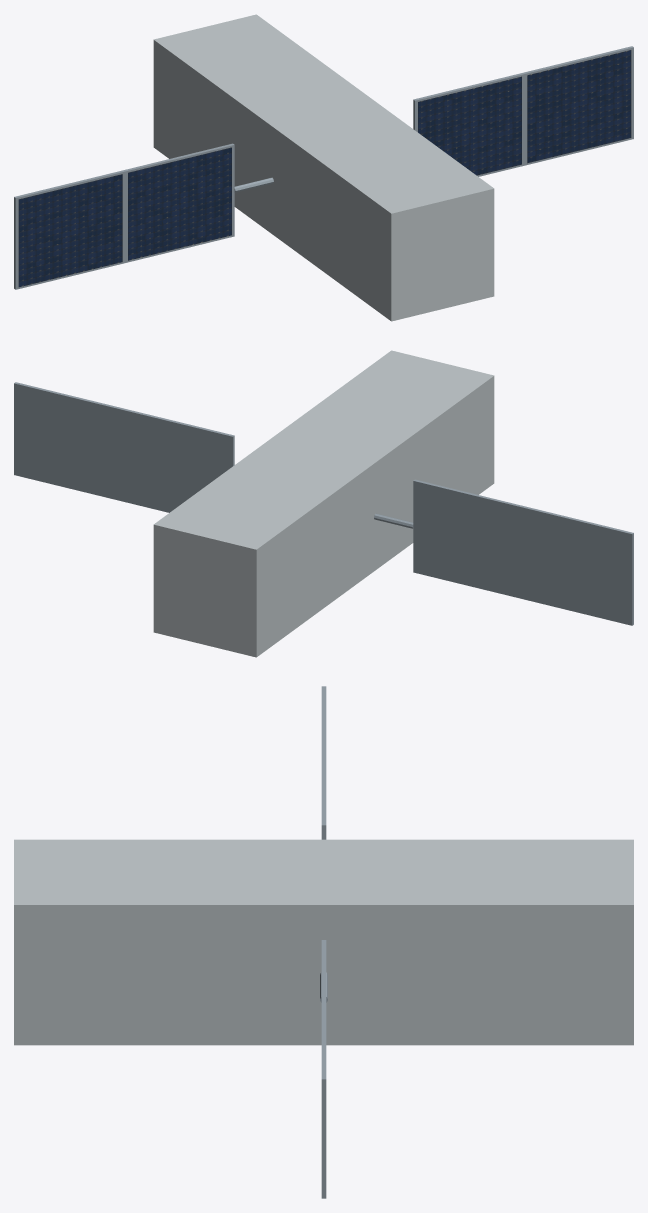
Rendered from ref-sprint-a-39253.glb.
3 renders of one model, top to bottom at view 1: azimuth 30°, elevation 25°; view 2: azimuth 150°, elevation 25°; view 3: azimuth 270°, elevation 25°, orthographic. The views are drawn at different scales.
Visible parts, largest first — view 1: Spacecraft body, Photovoltaic laminates (×4), Array frame (×4); view 2: Spacecraft body, Array frame (×4); view 3: Spacecraft body, Array frame.
Part boxes in pixels (left/top/right/bottom): Spacecraft body: left=153, top=14, right=494, bottom=321; Photovoltaic laminates (×4): left=18, top=50, right=631, bottom=287; Array frame (×4): left=14, top=46, right=633, bottom=289; Spacecraft body: left=153, top=350, right=494, bottom=657; Array frame (×4): left=14, top=382, right=633, bottom=625; Spacecraft body: left=14, top=839, right=633, bottom=1045; Array frame: left=321, top=1009, right=326, bottom=1198.
Size of the model in its own units: 6 by 1 by 4.
Materials: 3 (1 with a texture image).
